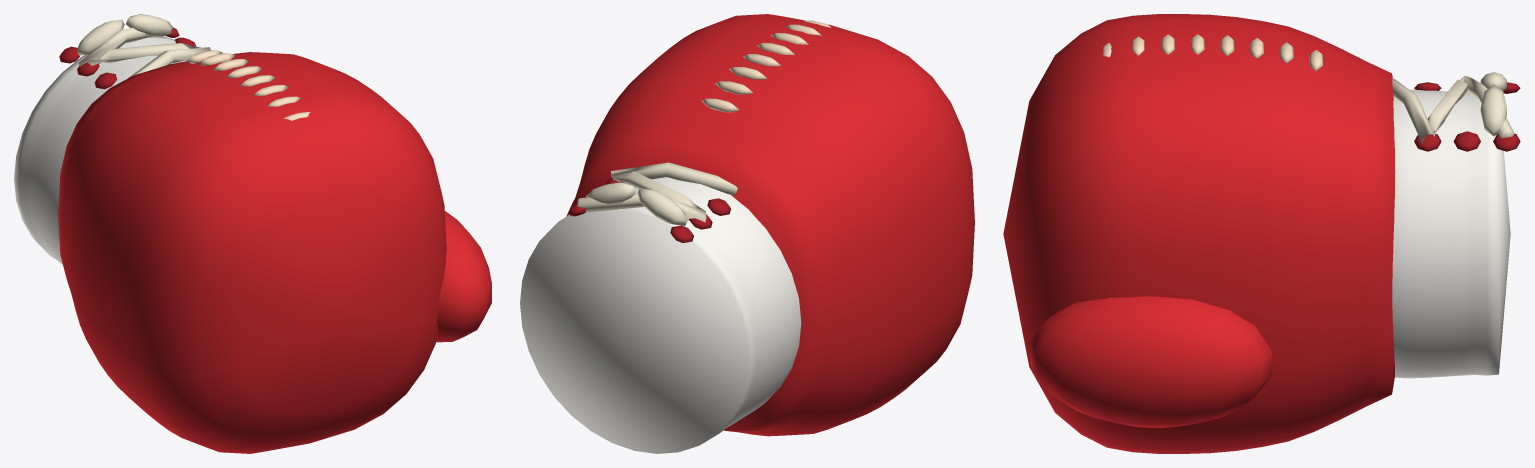
Rendered from boxing_glove.glb.
3 renders of one model, left to right at view 1: azimuth 30°, elevation 25°; view 2: azimuth 150°, elevation 25°; view 3: azimuth 270°, elevation 25°, orthographic. The views are drawn at different scales.
Visible parts, largest first — view 1: BoxingGlove; view 2: BoxingGlove; view 3: BoxingGlove.
Boxes of the visible parts, x1=… form: BoxingGlove: x1=14, y1=14, x2=491, y2=453; BoxingGlove: x1=520, y1=14, x2=974, y2=453; BoxingGlove: x1=1003, y1=14, x2=1520, y2=453.
Bounding box in the file's own units: 0.4511 × 0.4297 × 0.524.
